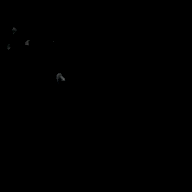v: (4, 25, 29, 50)
